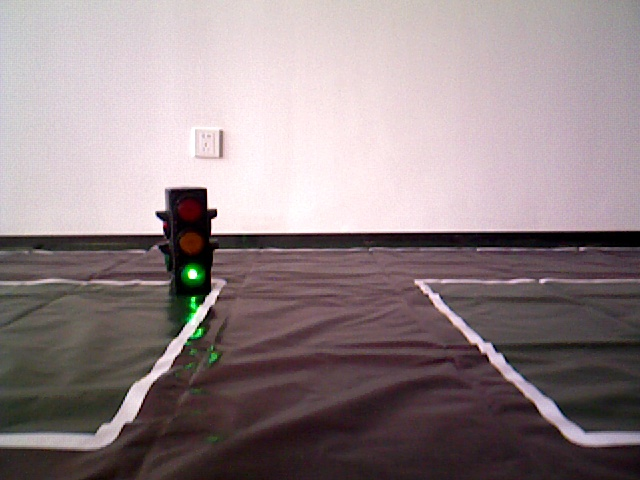green: (167, 190, 209, 287)
